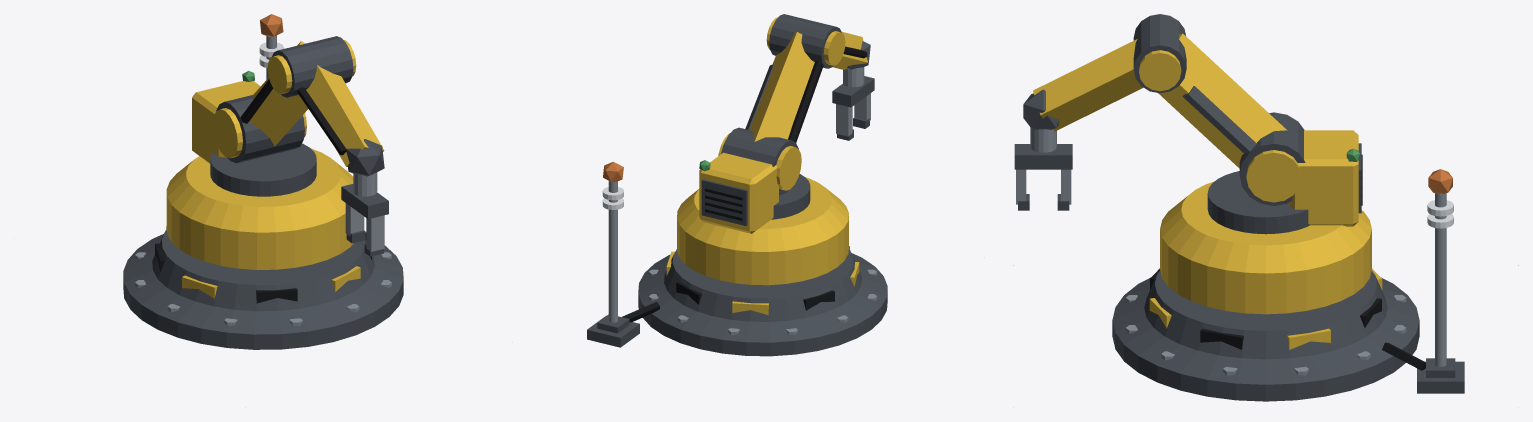
The model's file is bras_t2.glb.
The picture shows the model from 3 angles, left to right: view 1: azimuth 30°, elevation 25°; view 2: azimuth 150°, elevation 25°; view 3: azimuth 270°, elevation 25°; orthographic projection. The views are drawn at different scales.
Visible parts, largest first — view 1: socle_embase.004, tourelle_corps.004, tourelle_acier_sombre.006, tourelle_jaune.002, tourelle_acier.006, tourelle_noir.006, socle_acier.006, socle_jaune.004, socle_noir.006; view 2: socle_embase.004, tourelle_corps.004, tourelle_jaune.002, tourelle_acier_sombre.006, socle_acier.006, tourelle_noir.006, tourelle_acier.006, socle_acier_sombre.006, socle_noir.006, socle_jaune.004, socle_blanc.004; view 3: socle_embase.004, tourelle_jaune.002, tourelle_corps.004, tourelle_acier_sombre.006, socle_acier.006, socle_acier_sombre.006, socle_noir.006, tourelle_acier.006, socle_jaune.004, socle_blanc.004, socle_cuivre.004.
Boxes of the visible parts, x1,y1,x2,y2 form: socle_embase.004: (123,229,403,349); tourelle_corps.004: (166,148,353,269); tourelle_acier_sombre.006: (210,36,388,256); tourelle_jaune.002: (192,40,384,166); tourelle_acier.006: (345,172,384,251); tourelle_noir.006: (240,79,346,155); socle_acier.006: (135,35,391,326); socle_jaune.004: (166,226,360,298); socle_noir.006: (155,232,371,303); socle_embase.004: (638,249,887,356); tourelle_corps.004: (677,177,848,285); tourelle_jaune.002: (699,17,867,233); tourelle_acier_sombre.006: (701,14,874,225); socle_acier.006: (608,181,877,335); tourelle_noir.006: (705,46,867,220); tourelle_acier.006: (836,67,870,136); socle_acier_sombre.006: (587,314,639,347); socle_noir.006: (622,246,849,322); socle_jaune.004: (666,251,859,315); socle_blanc.004: (602,187,623,209); socle_embase.004: (1112,270,1419,401); tourelle_jaune.002: (1033,33,1358,226); tourelle_corps.004: (1160,181,1371,314); tourelle_acier_sombre.006: (1014,14,1361,234); socle_acier.006: (1125,193,1446,375); socle_acier_sombre.006: (1417,358,1464,393); socle_noir.006: (1150,268,1425,370); tourelle_acier.006: (1016,127,1071,204); socle_jaune.004: (1149,268,1382,349); socle_blanc.004: (1427,200,1453,228); socle_cuivre.004: (1428,169,1452,193).
Bounding box in the file's own units: 1 × 1 × 1.5.
